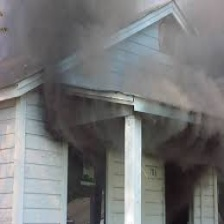smoke: (14, 1, 224, 177)
